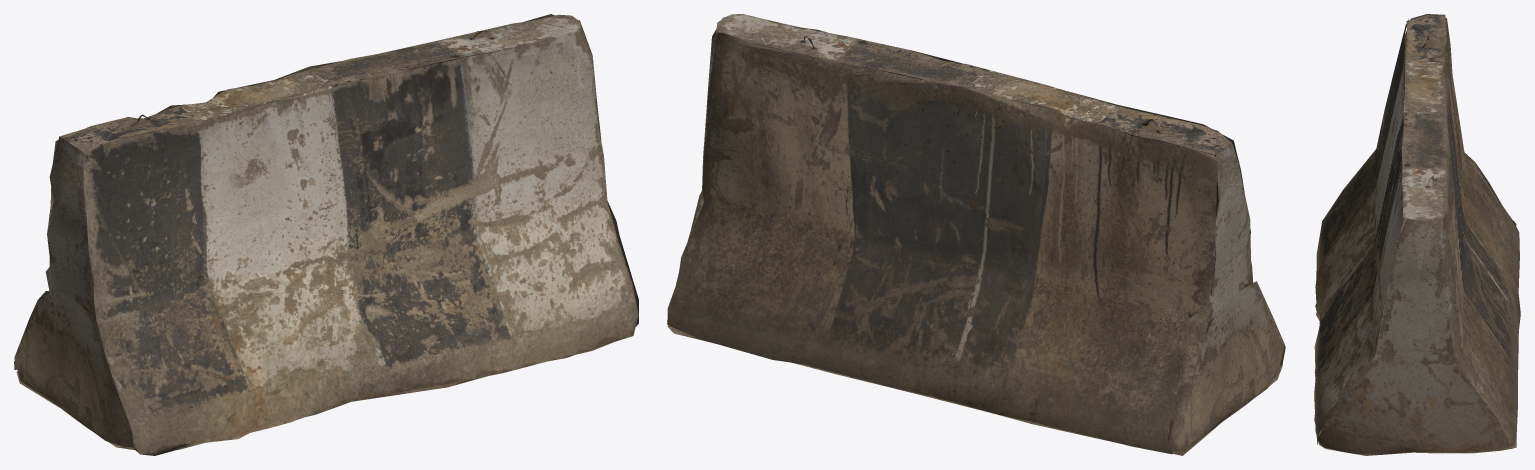
The model's file is barrier.glb.
3 views of the same model, side by side, from view 1: azimuth 30°, elevation 25°; view 2: azimuth 150°, elevation 25°; view 3: azimuth 270°, elevation 25° (orthographic). The views are drawn at different scales.
Parts seen in each view (by area): view 1: concrete_road_barrier; view 2: concrete_road_barrier; view 3: concrete_road_barrier.
Part boxes in pixels (x1,y1,x2,y2): concrete_road_barrier: [14, 14, 638, 455]; concrete_road_barrier: [667, 14, 1285, 455]; concrete_road_barrier: [1314, 14, 1520, 455].
Size of the model in its own units: 1.55 by 0.8194 by 0.6344.
1 material, 1 textured.
